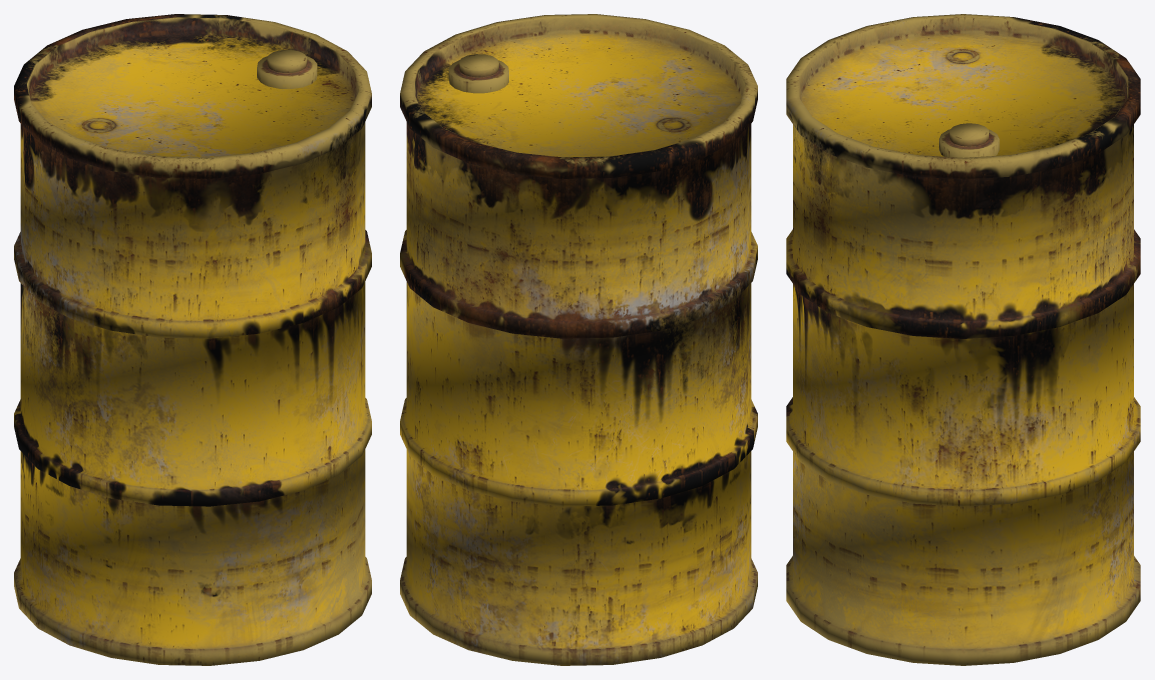
Rendered from barrel2.glb.
The picture shows the model from 3 angles, left to right: view 1: azimuth 30°, elevation 25°; view 2: azimuth 150°, elevation 25°; view 3: azimuth 270°, elevation 25°; orthographic projection.
Parts seen in each view (by area): view 1: barrel_YELLOW_b_YELLOW_0; view 2: barrel_YELLOW_b_YELLOW_0; view 3: barrel_YELLOW_b_YELLOW_0.
Boxes of the visible parts, box(x1,y1,x2,y2) form: barrel_YELLOW_b_YELLOW_0: box(14, 14, 371, 665); barrel_YELLOW_b_YELLOW_0: box(400, 14, 757, 665); barrel_YELLOW_b_YELLOW_0: box(786, 14, 1140, 665).
Bounding box in the file's own units: 58.42 × 91.91 × 57.83.
Materials: 1 (1 with a texture image).
